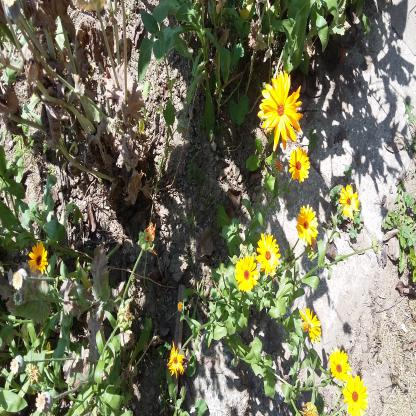marigold: (258, 70, 304, 149), (294, 202, 318, 249), (342, 373, 368, 415), (257, 230, 280, 276), (233, 250, 258, 292), (298, 304, 322, 345), (289, 146, 311, 186), (330, 346, 350, 386), (27, 241, 48, 278), (338, 185, 359, 221)
